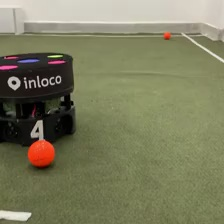ball: (26, 137, 57, 169), (162, 29, 172, 40)
goal: (1, 6, 25, 35)
robot: (1, 50, 76, 148)
